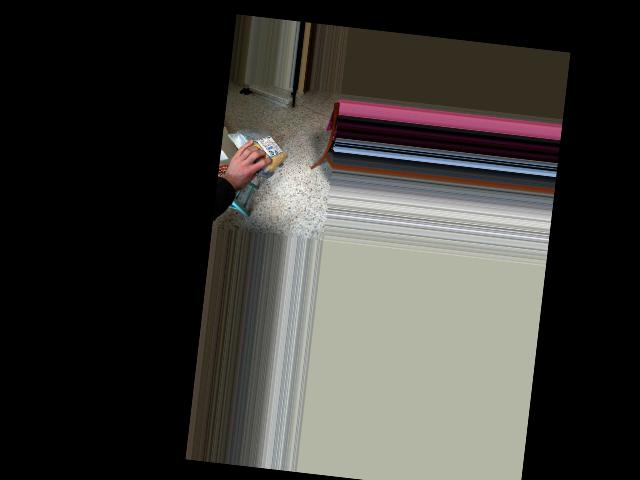cheese: (223, 129, 287, 169)
